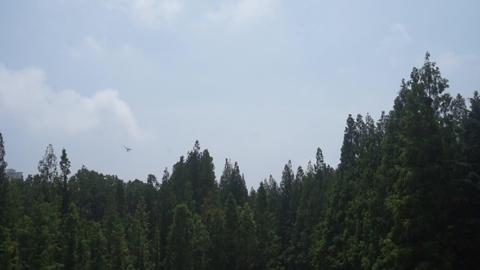UAV: (122, 146, 132, 152)
